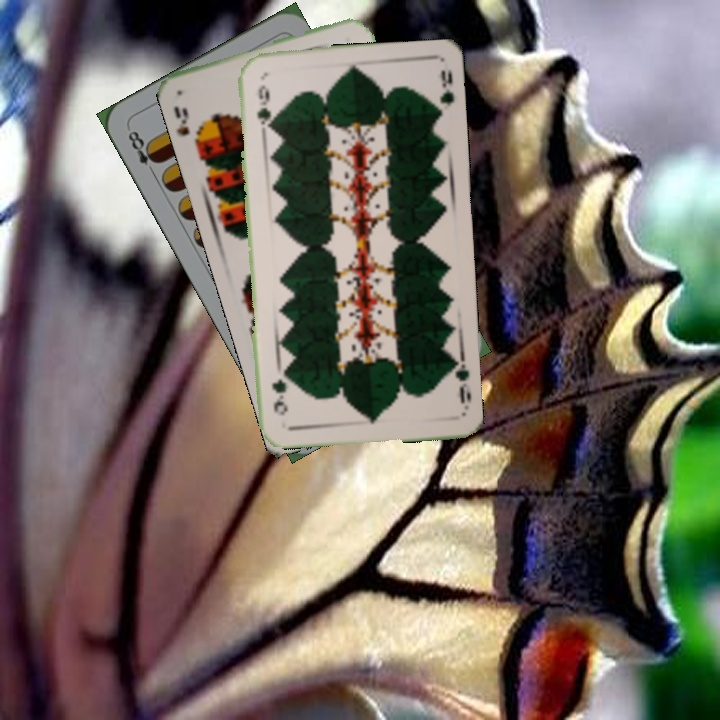E8: (124, 126, 163, 178)
G9: (445, 353, 474, 412), (253, 81, 273, 133)
S9: (169, 102, 203, 151)
